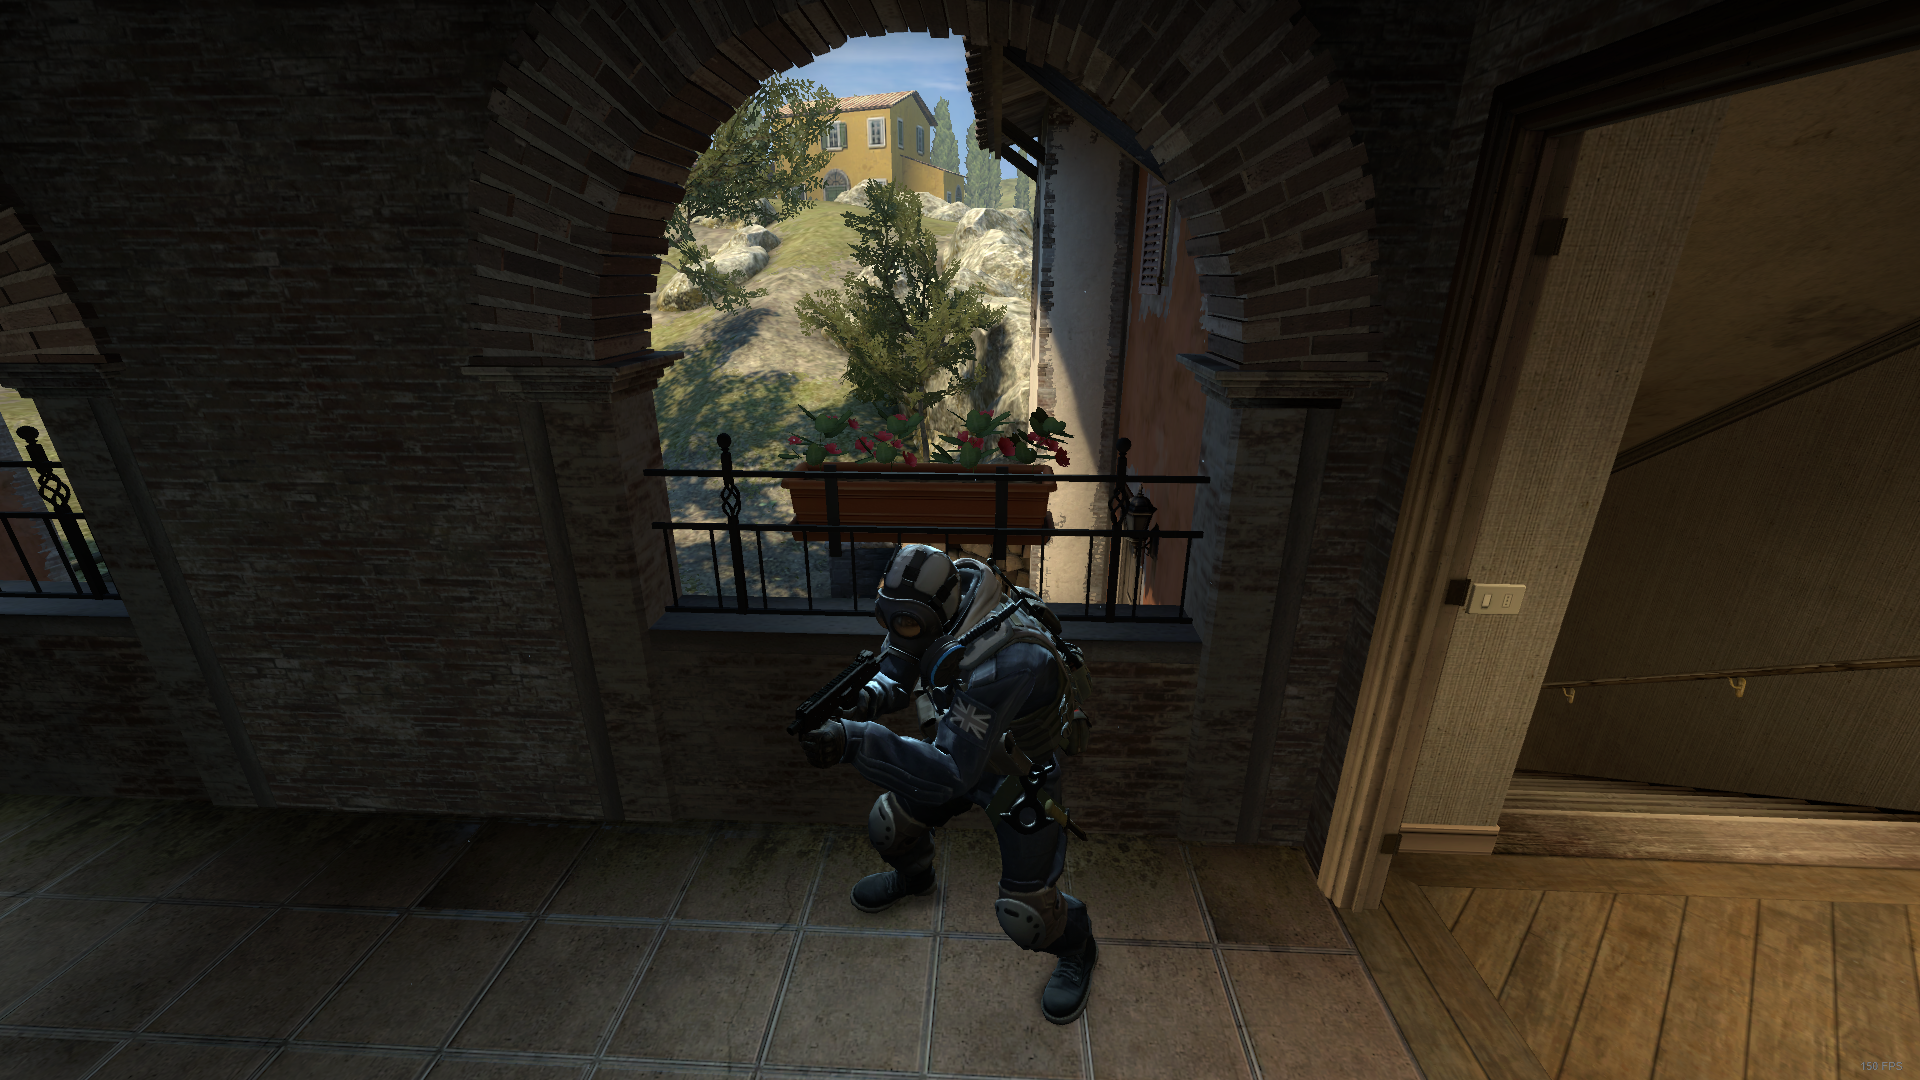ct: (818, 535, 1133, 1047)
